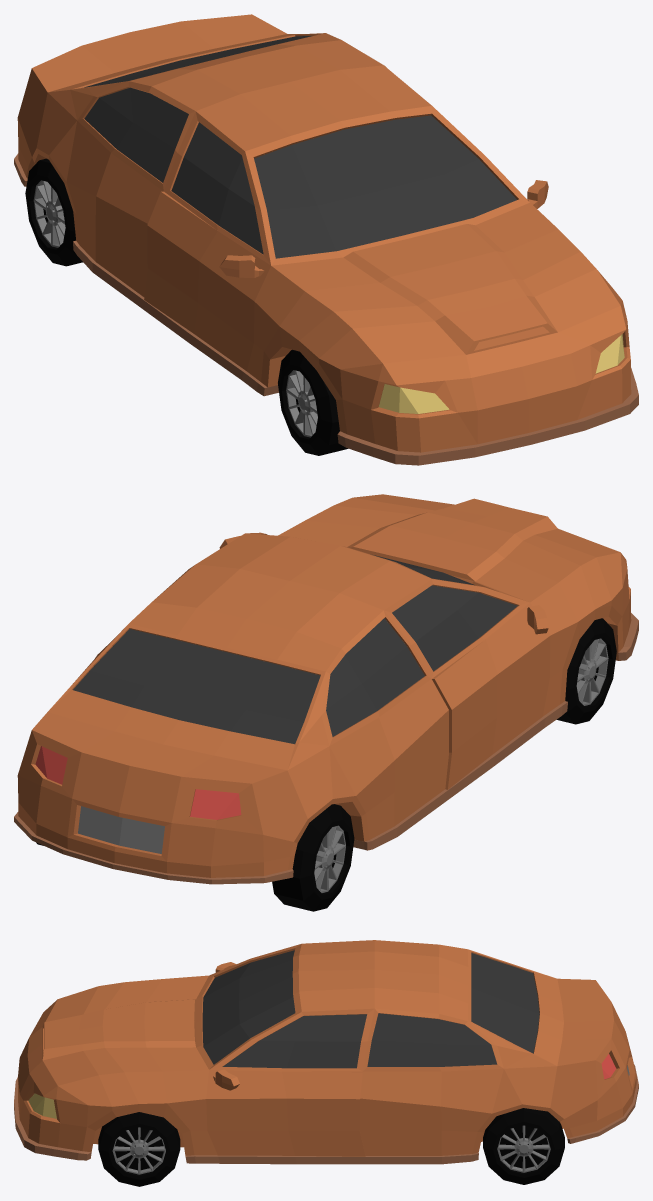
Rendered from SportsCar.glb.
3 renders of one model, top to bottom at view 1: azimuth 30°, elevation 25°; view 2: azimuth 150°, elevation 25°; view 3: azimuth 270°, elevation 25°, orthographic. The views are drawn at different scales.
Parts seen in each view (by area): view 1: SportsCar, SportsCar_FrontRightWheel, SportsCar_BackWheels; view 2: SportsCar, SportsCar_BackWheels, SportsCar_FrontRightWheel; view 3: SportsCar, SportsCar_BackWheels, SportsCar_FrontLeftWheel.
Part boxes in pixels (<box>): SportsCar: <box>14,14,638,465</box>; SportsCar_FrontRightWheel: <box>278,349,348,455</box>; SportsCar_BackWheels: <box>25,158,82,266</box>; SportsCar: <box>14,494,638,884</box>; SportsCar_BackWheels: <box>36,804,354,911</box>; SportsCar_FrontRightWheel: <box>556,618,616,724</box>; SportsCar: <box>14,940,638,1164</box>; SportsCar_BackWheels: <box>483,1108,564,1184</box>; SportsCar_FrontLeftWheel: <box>98,1112,180,1186</box>.
Size of the model in its own units: 1.8 by 1.16 by 3.97.
